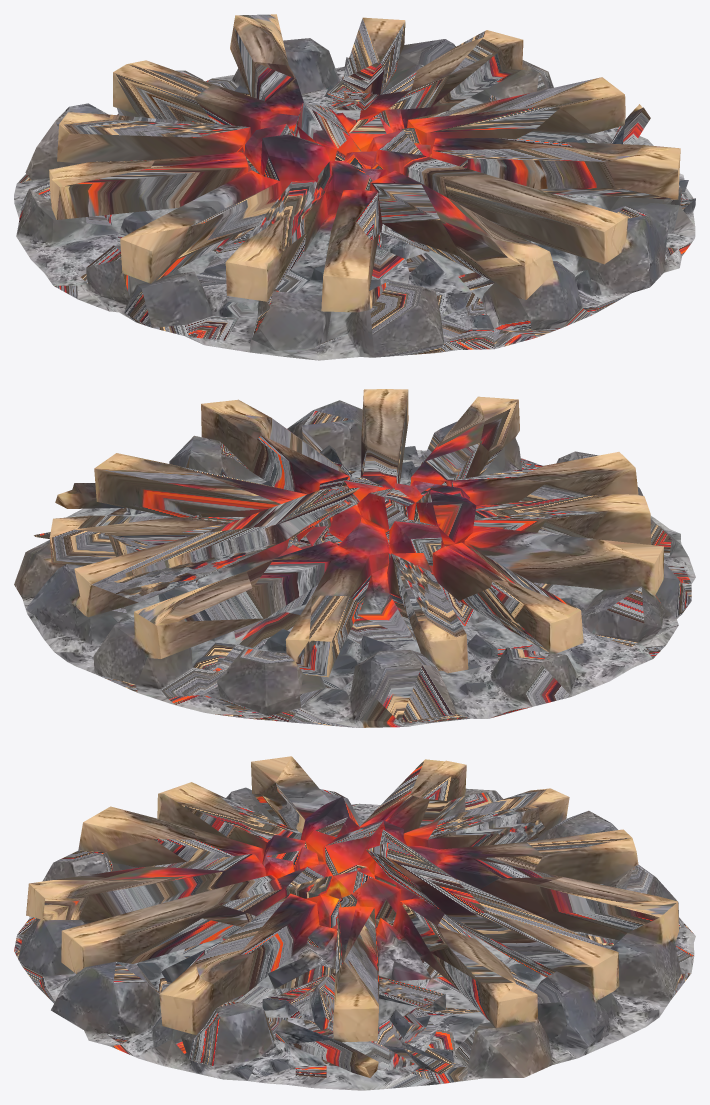
The model's file is prop_bonfire.99151246.glb.
The picture shows the model from 3 angles, top to bottom: view 1: azimuth 30°, elevation 25°; view 2: azimuth 150°, elevation 25°; view 3: azimuth 270°, elevation 25°; orthographic projection.
Parts seen in each view (by area): view 1: tripo_node_88f23359-d705-4e11-953a-d911b10c5981; view 2: tripo_node_88f23359-d705-4e11-953a-d911b10c5981; view 3: tripo_node_88f23359-d705-4e11-953a-d911b10c5981.
Boxes of the visible parts, x1=… form: tripo_node_88f23359-d705-4e11-953a-d911b10c5981: x1=14, y1=14, x2=695, y2=360; tripo_node_88f23359-d705-4e11-953a-d911b10c5981: x1=14, y1=389, x2=695, y2=727; tripo_node_88f23359-d705-4e11-953a-d911b10c5981: x1=14, y1=756, x2=695, y2=1090.
Size of the model in its own units: 2.15 by 0.3999 by 2.14.
Materials: 1 (1 with a texture image).
